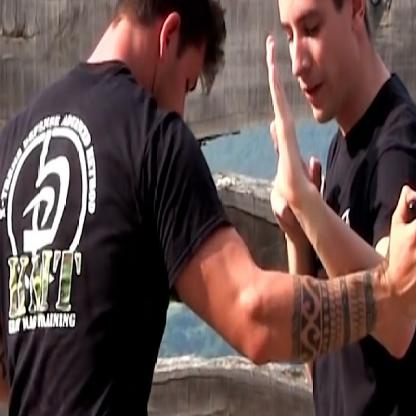knife: (389, 184, 415, 415)
